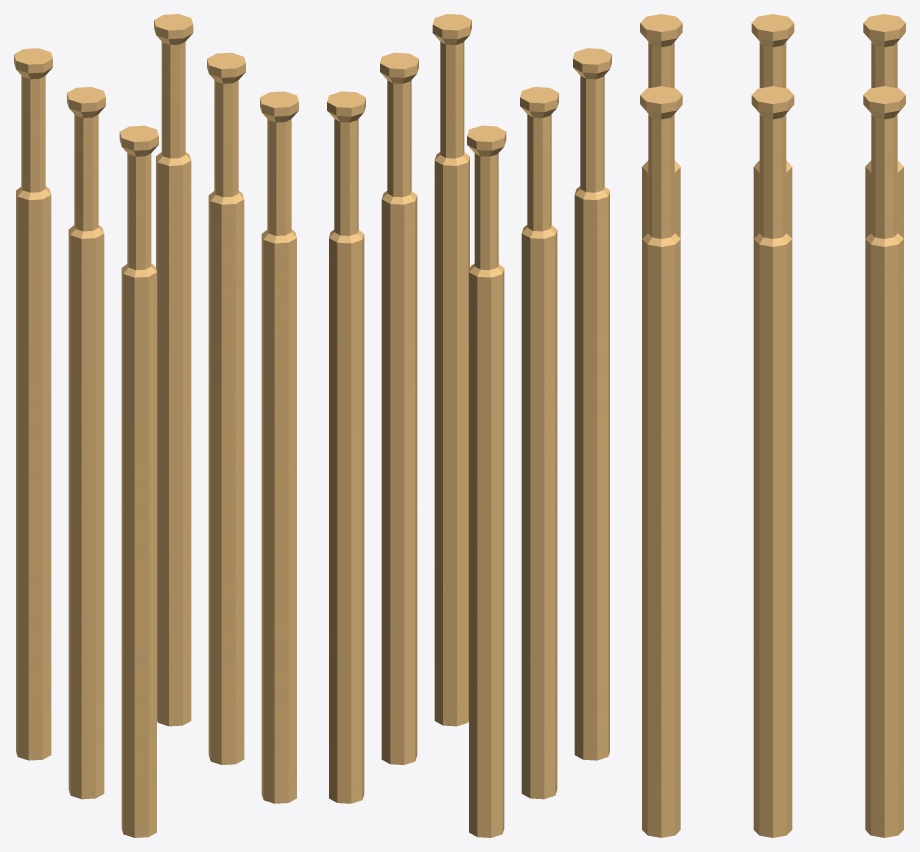
Rendered from Pillar-Restored.fbx.
3 views of the same model, side by side, from view 1: azimuth 30°, elevation 25°; view 2: azimuth 150°, elevation 25°; view 3: azimuth 270°, elevation 25° (orthographic). The views are drawn at different scales.
Parts seen in each view (by area): view 1: Pillar-Restored; view 2: Pillar-Restored; view 3: Pillar-Restored.
Part boxes in pixels (x1,y1,x2,y2): Pillar-Restored: (14, 14, 298, 837); Pillar-Restored: (327, 14, 611, 837); Pillar-Restored: (640, 14, 905, 837).
Bounding box in the file's own units: 3092 × 11749 × 3853.
